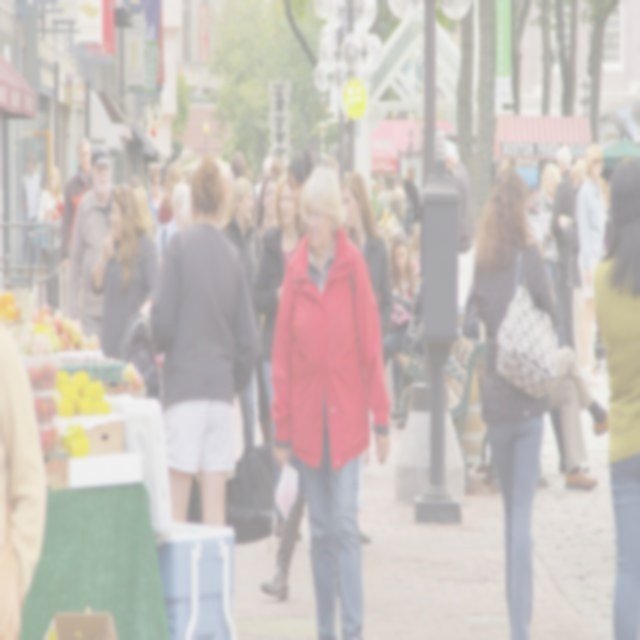pessoa: (271, 162, 391, 640), (260, 144, 378, 612), (472, 167, 561, 639), (148, 154, 260, 527), (461, 271, 614, 492), (590, 151, 639, 639), (250, 175, 304, 542), (156, 138, 340, 226), (0, 320, 49, 640), (90, 180, 160, 397), (66, 146, 116, 358), (340, 172, 396, 352), (106, 188, 157, 362), (576, 142, 608, 386), (253, 171, 279, 446), (380, 241, 420, 406), (558, 158, 588, 364), (548, 144, 576, 356), (218, 175, 262, 301), (388, 230, 419, 400), (538, 162, 566, 350), (59, 135, 95, 274), (37, 166, 65, 313), (154, 182, 192, 276), (378, 185, 410, 289), (446, 142, 474, 255), (23, 152, 41, 276), (230, 151, 258, 221), (128, 174, 158, 238), (157, 162, 185, 226), (514, 158, 542, 218), (392, 173, 414, 243), (146, 164, 166, 232), (146, 165, 166, 231), (403, 162, 421, 224), (252, 156, 274, 202), (376, 177, 391, 220), (410, 221, 421, 272), (376, 178, 390, 218), (409, 228, 422, 264)
